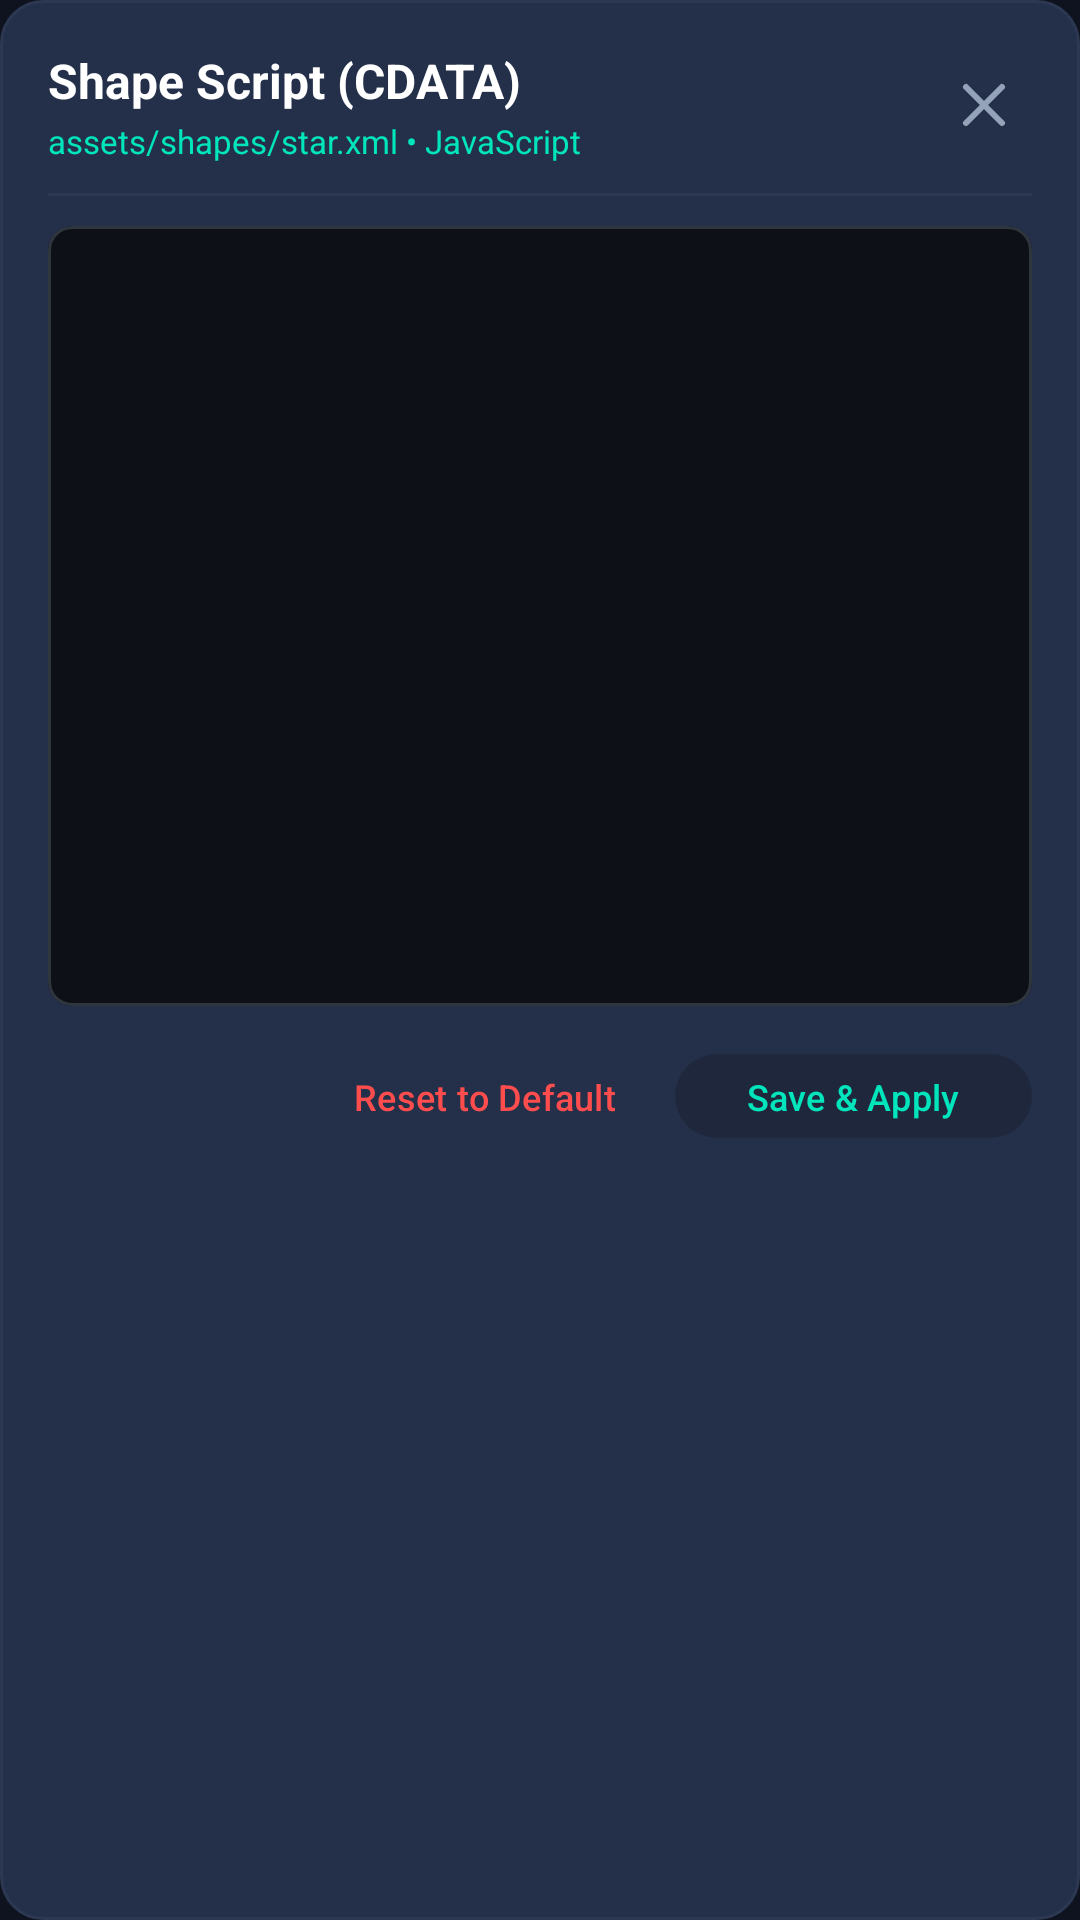

Screen size 1080w x 1920h. Icon name, then its box in pixels as (x1, y1, x2, y2):
pe close: (963, 84, 1005, 126)
